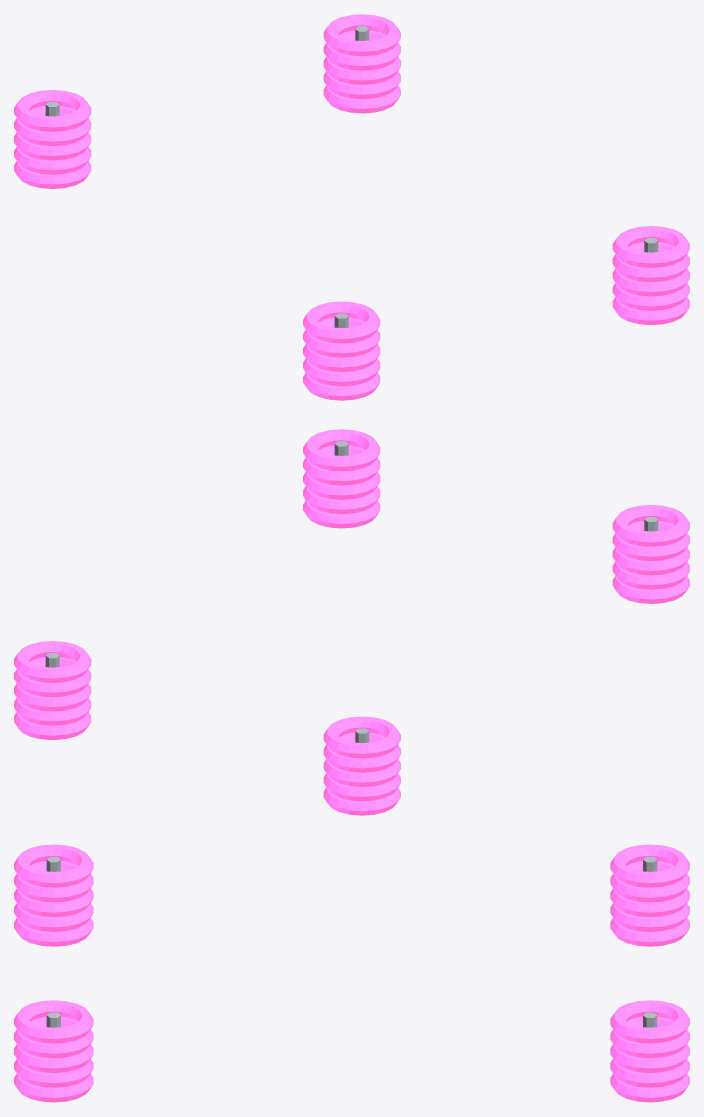
The model's file is upgrade-spring_casters.glb.
3 views of the same model, one above another, from view 1: azimuth 30°, elevation 25°; view 2: azimuth 150°, elevation 25°; view 3: azimuth 270°, elevation 25° (orthographic). The views are drawn at different scales.
Parts seen in each view (by area): view 1: upgrade-spring_casters; view 2: upgrade-spring_casters; view 3: upgrade-spring_casters.
Boxes of the visible parts, <box> form: upgrade-spring_casters: <box>14,14,689,400</box>; upgrade-spring_casters: <box>14,429,689,815</box>; upgrade-spring_casters: <box>14,844,689,1102</box>.
Bounding box in the file's own units: 1.24 × 0.2191 × 1.87.
